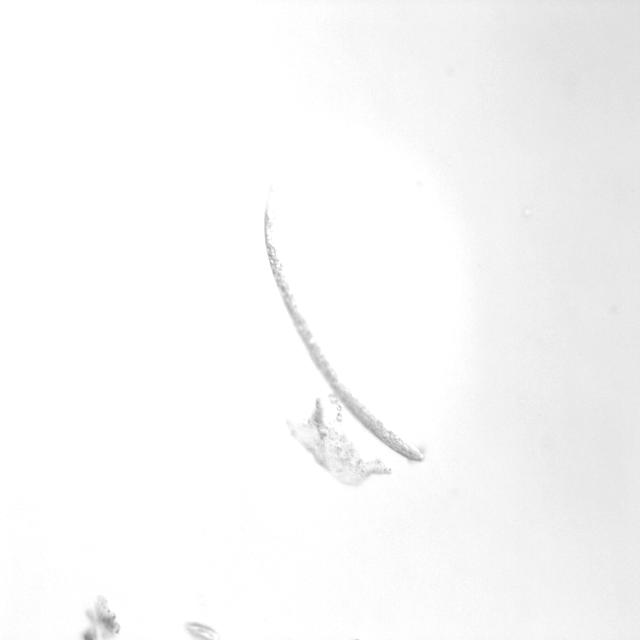Pratylenchus: (250, 174, 430, 467)
